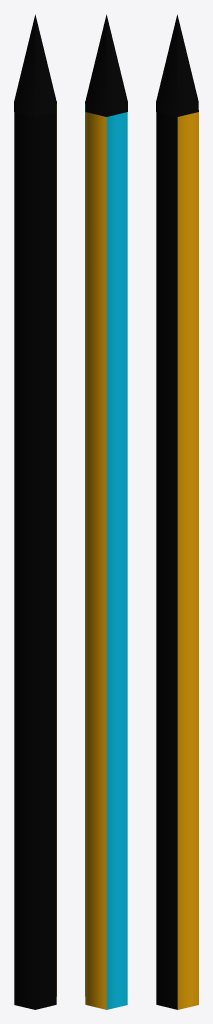
Rendered from pencil2.fbx.
The picture shows the model from 3 angles, left to right: view 1: azimuth 30°, elevation 25°; view 2: azimuth 150°, elevation 25°; view 3: azimuth 330°, elevation 25°; orthographic projection.
Visible parts, largest first — view 1: Cube, Cone; view 2: Cube, Cone; view 3: Cube, Cone.
Part boxes in pixels (bbox=[...]): Cube: bbox=[14, 101, 56, 1009]; Cone: bbox=[14, 14, 56, 116]; Cube: bbox=[85, 101, 127, 1009]; Cone: bbox=[85, 14, 127, 116]; Cube: bbox=[156, 110, 198, 1009]; Cone: bbox=[156, 14, 198, 116].
Bounding box in the file's own units: 0.5013 × 11.04 × 0.4318.
